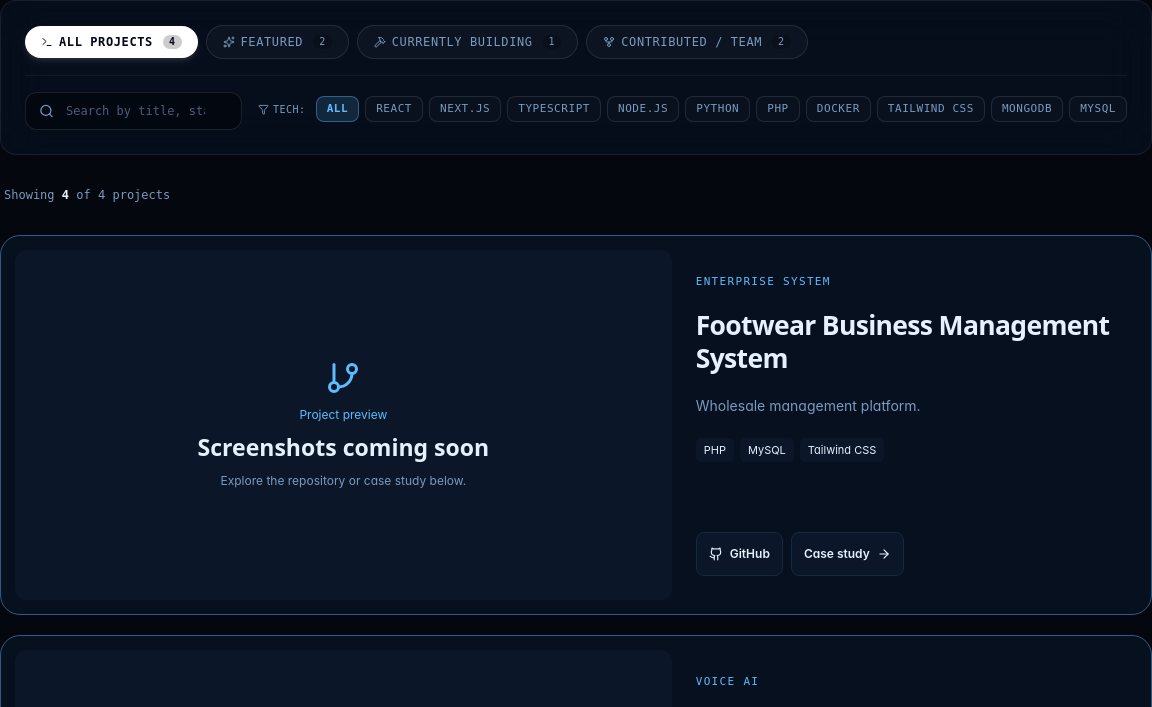
ProjectsCatalogueView Component › filters projects dynamically via search query input
Type "Voice" into the field with placeholder "Search by title, stack, or keywords...". click: (134, 111)
box: [25,92,242,130]
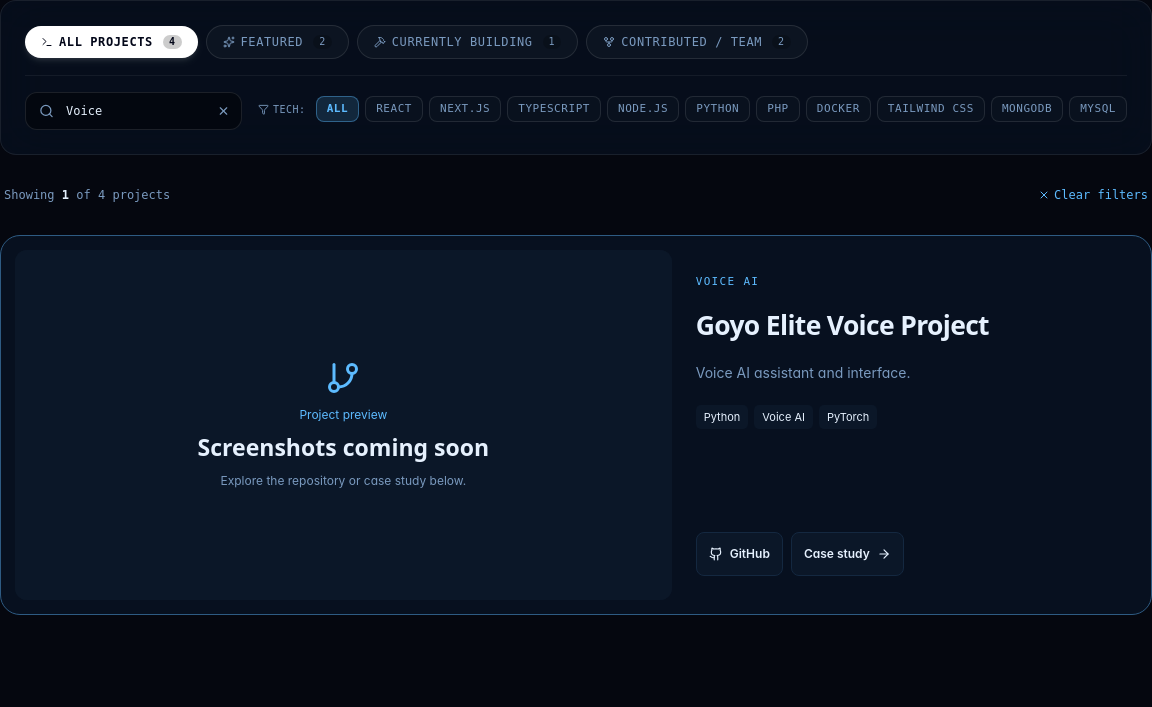
Check: the heading "Goyo Elite Voice Project" is shown, box [696,308,989,342]
Check: the heading "Footwear Business Management System" is gone
